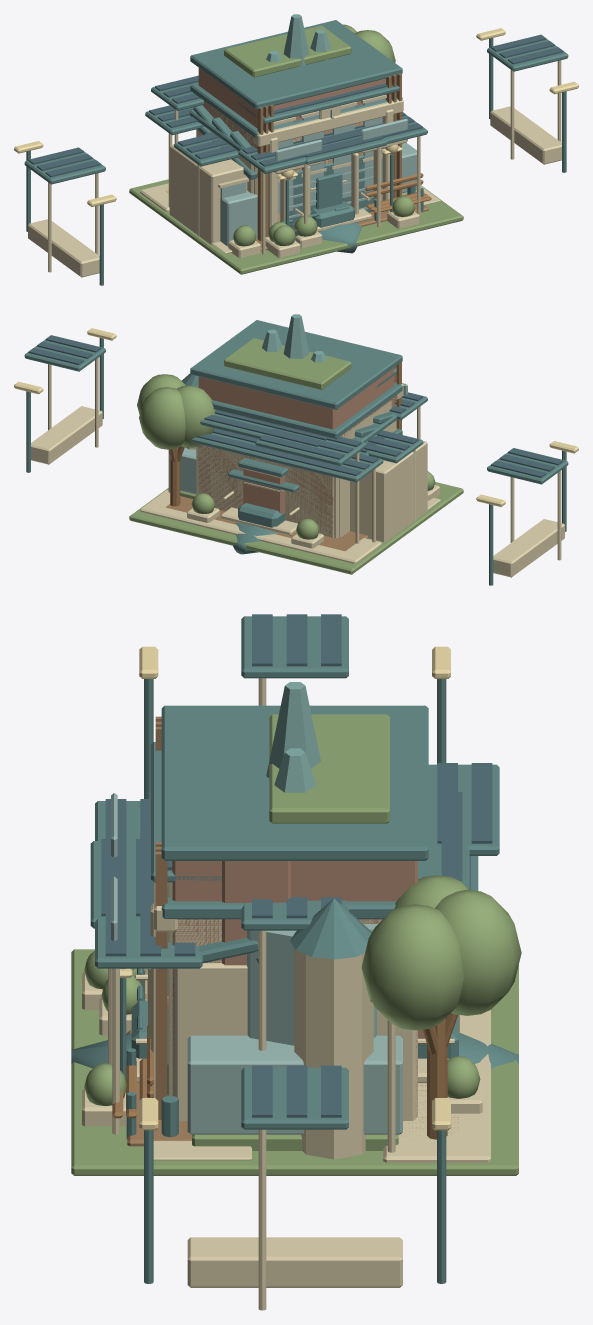
The model's file is city.glb.
The picture shows the model from 3 angles, top to bottom: view 1: azimuth 30°, elevation 25°; view 2: azimuth 150°, elevation 25°; view 3: azimuth 270°, elevation 25°; orthographic projection. The views are drawn at different scales.
Visible parts, largest first — view 1: Flat roof cornice.005, Promenade lawn.001, Side service wing.001, Roof garden bed, Retained street block.005, Approach planter, Approach planter.001, Stone entablature, Mine control kiosk.001, Flat roof cornice.006, Floating canopy.018, Floating canopy.009 (+45 smaller); view 2: Retained street block.005, Flat roof cornice.005, Retained street block.006, Side service wing.001, Promenade lawn.001, Roof garden bed, Long platform.001, Soft leaf crown.005, Approach planter, Approach planter.001, Flat roof cornice.006, Floating canopy.011 (+38 smaller); view 3: Flat roof cornice.005, Promenade lawn.001, Grain silo.001, Approach planter.001, Greenhouse glazing.001, Roof garden bed, Soft leaf crown.004, Retained street block.005, Workshop block.001, Soft leaf crown.005, Long platform.001, Floating canopy.009 (+46 smaller).
Part boxes in pixels (x1,y1,x2,y2): Flat roof cornice.005: (190, 20, 402, 109); Promenade lawn.001: (129, 179, 463, 274); Side service wing.001: (169, 144, 247, 245); Roof garden bed: (224, 25, 351, 77); Retained street block.005: (198, 68, 385, 221); Approach planter: (28, 219, 99, 277); Approach planter.001: (490, 106, 561, 164); Stone entablature: (253, 99, 403, 146); Mine control kiosk.001: (220, 191, 257, 246); Flat roof cornice.006: (190, 83, 402, 138); Floating canopy.018: (238, 85, 399, 123); Floating canopy.009: (238, 115, 427, 173); Retained street block.005: (198, 368, 394, 537); Flat roof cornice.005: (190, 320, 402, 409); Retained street block.006: (198, 404, 392, 537); Side service wing.001: (350, 441, 427, 541); Promenade lawn.001: (129, 482, 463, 574); Roof garden bed: (224, 338, 351, 389); Long platform.001: (140, 490, 381, 563); Soft leaf crown.005: (139, 387, 185, 449); Approach planter: (493, 519, 564, 577); Approach planter.001: (31, 406, 102, 464); Flat roof cornice.006: (211, 383, 402, 438); Floating canopy.011: (190, 433, 383, 482); Flat roof cornice.005: (161, 705, 428, 860); Promenade lawn.001: (71, 949, 518, 1175); Grain silo.001: (294, 948, 373, 1159); Approach planter.001: (187, 1237, 402, 1287); Greenhouse glazing.001: (187, 1035, 402, 1134); Roof garden bed: (269, 714, 389, 823); Soft leaf crown.004: (361, 904, 464, 1030); Retained street block.005: (172, 861, 417, 1106); Workshop block.001: (174, 963, 415, 1120); Soft leaf crown.005: (435, 889, 521, 1015); Long platform.001: (383, 1010, 490, 1162); Floating canopy.009: (95, 801, 202, 968).
Bounding box in the file's own units: 13.9 × 5.23 × 5.23.
